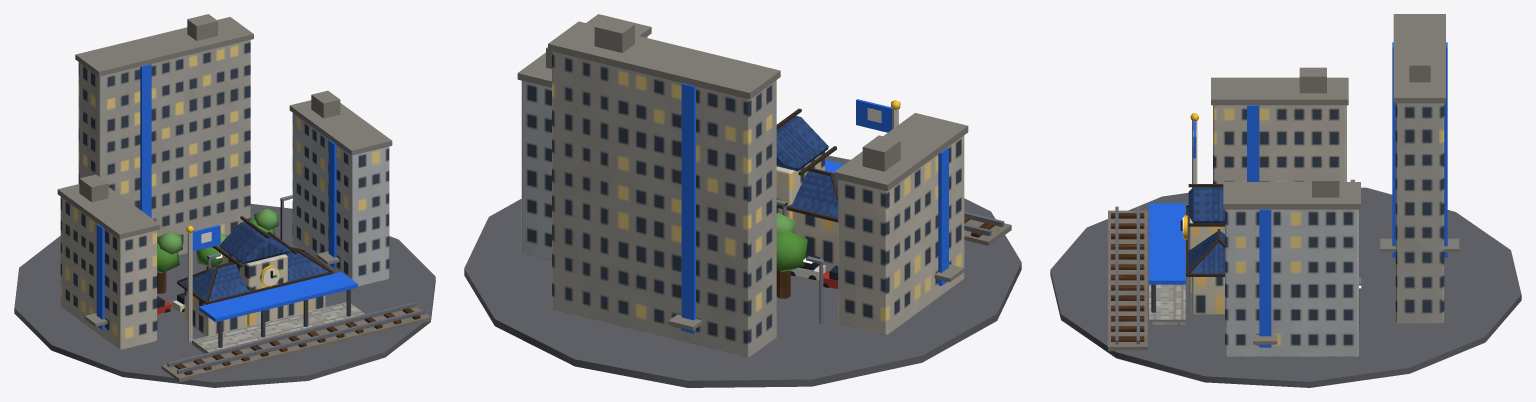
Rendered from city_dl6_blue.glb.
The picture shows the model from 3 angles, left to right: view 1: azimuth 30°, elevation 25°; view 2: azimuth 150°, elevation 25°; view 3: azimuth 270°, elevation 25°; orthographic projection. The views are drawn at different scales.
Visible parts, largest first — view 1: city_dl6_blue; view 2: city_dl6_blue; view 3: city_dl6_blue.
Part boxes in pixels (left/top/right/bottom): city_dl6_blue: left=14, top=14, right=435, bottom=387; city_dl6_blue: left=464, top=14, right=1021, bottom=387; city_dl6_blue: left=1050, top=14, right=1521, bottom=387.
Bounding box in the file's own units: 1.55 × 0.902 × 1.55.
Materials: 2 (1 with a texture image).
